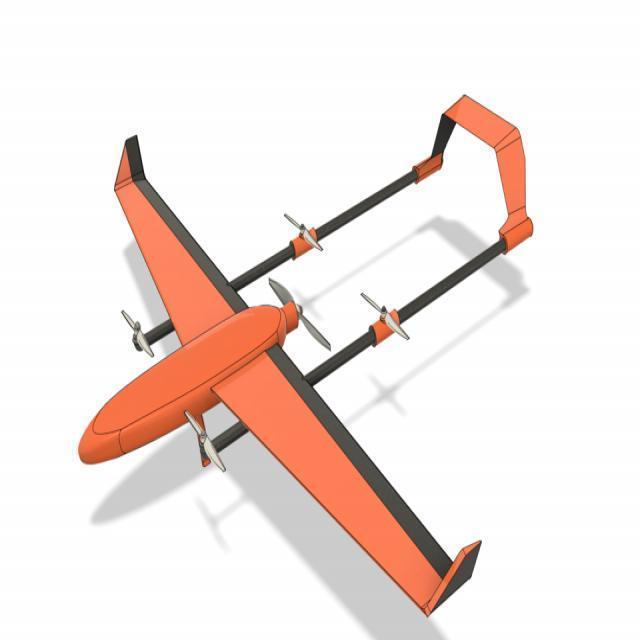iha: (77, 81, 544, 588)
